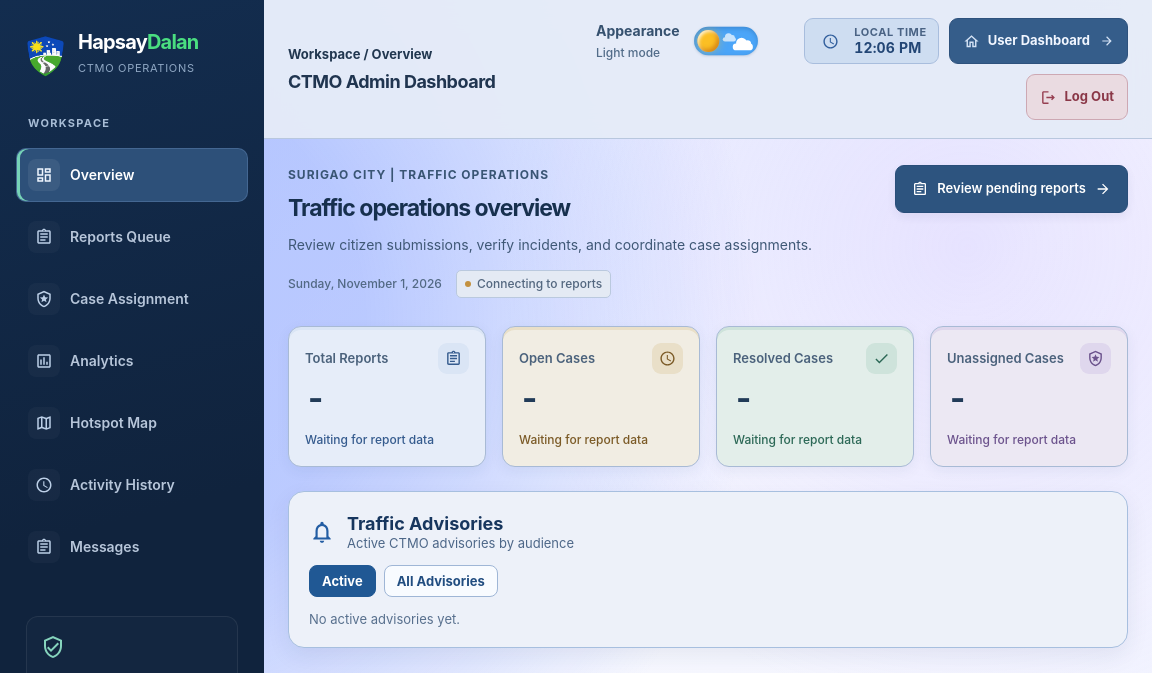
it: admin can filter review flags and inspect reasons and related reports without changing cases
The width and height of the screenshot is (1152, 673).
Click the button "Reports Queue". click: click(132, 237)
box: [16,210,248,264]
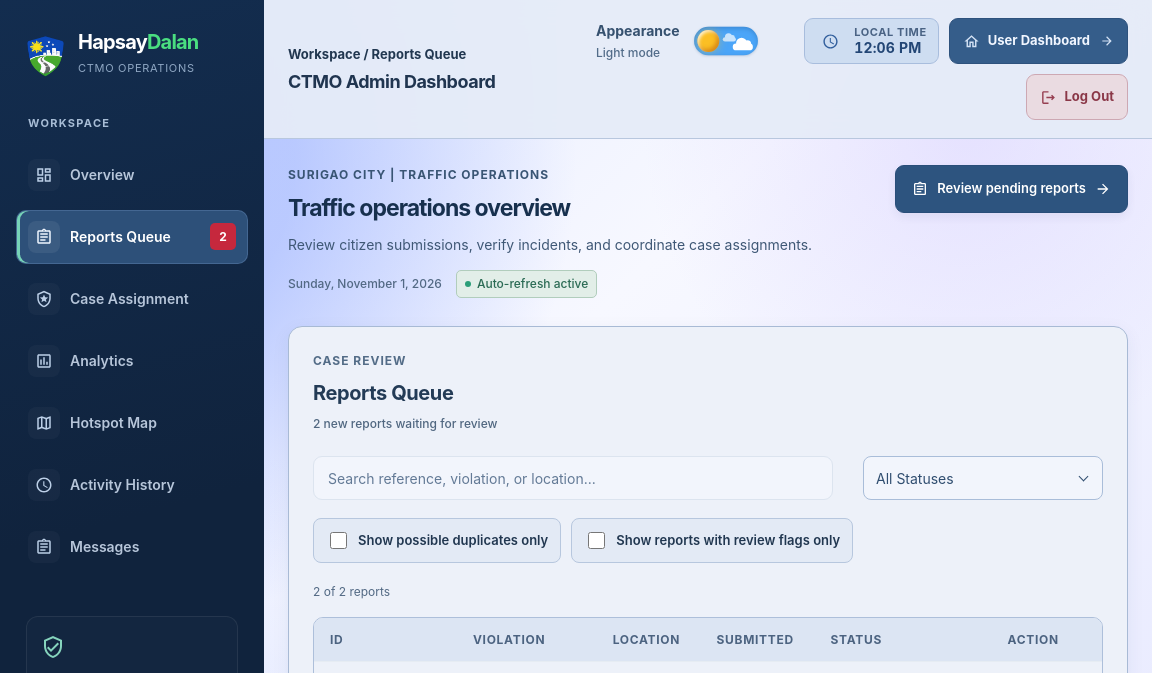
Click the checkbox labelled "Show reports with review flags only". click: click(597, 541)
box: [588,532,605,549]
(page scrolled)
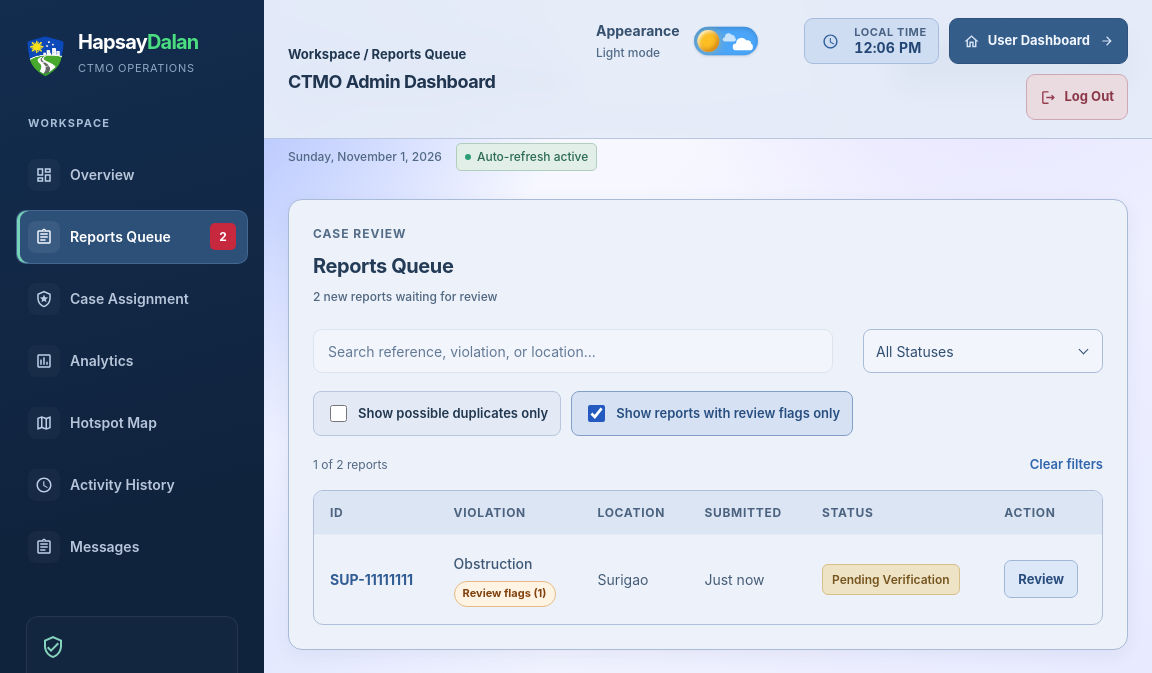
Expected: the text "Review flags (1)" is shown, [454,581,556,607]
Click the button "Review". click: click(1041, 580)
box: [1004,560,1078,598]
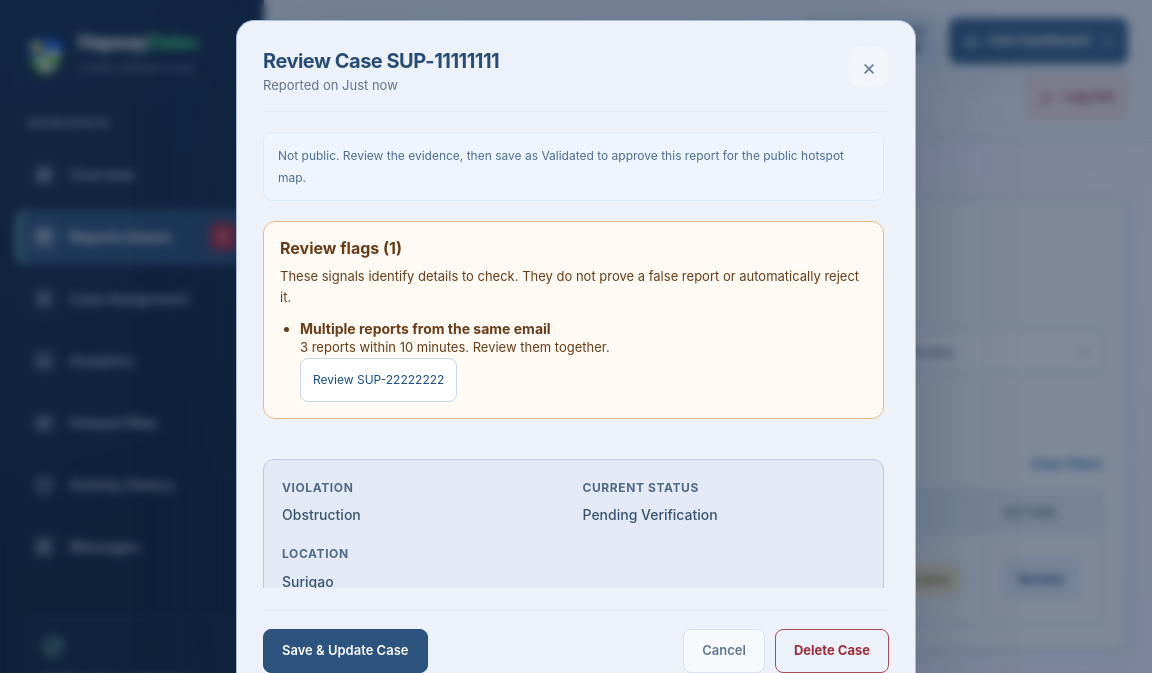
Expected: the element named "Suspicious report flags" shows "They do not prove a false report", [280,268,859,305]
Expected: the text "Multiple reports from the same email" is shown, [300,320,551,337]
Click the button "Review SUP-22222222". click: click(379, 380)
box: [300,358,457,402]
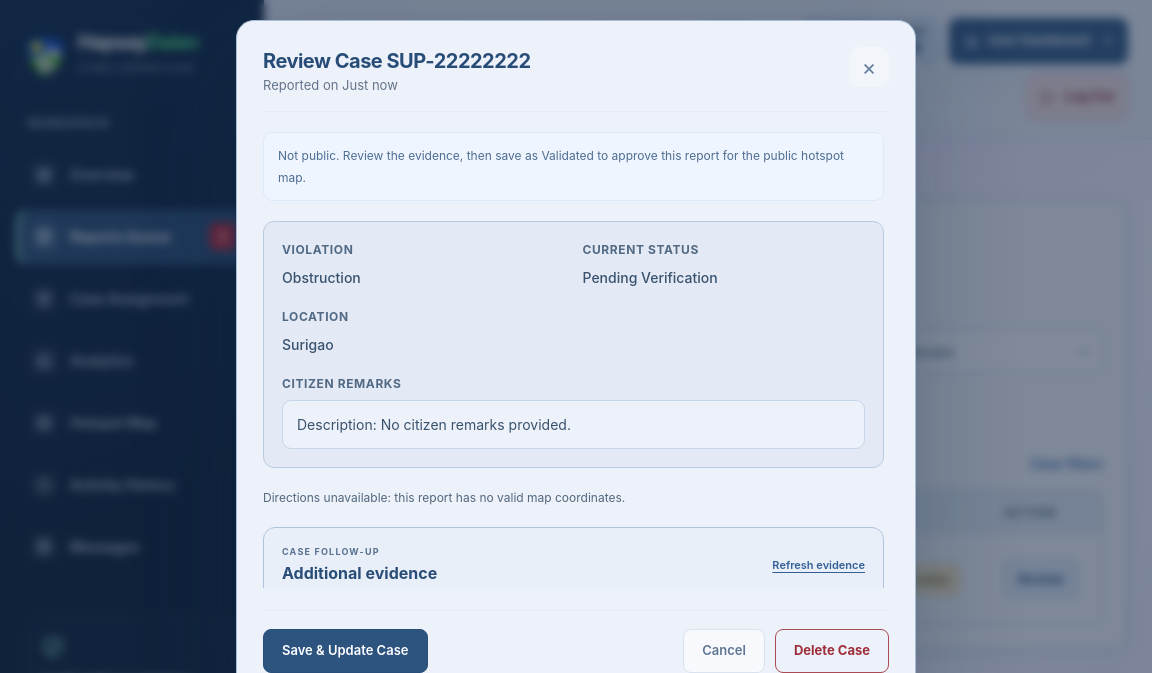
Expected: the heading "Review Case SUP-22222222" is shown, [263,47,530,75]
